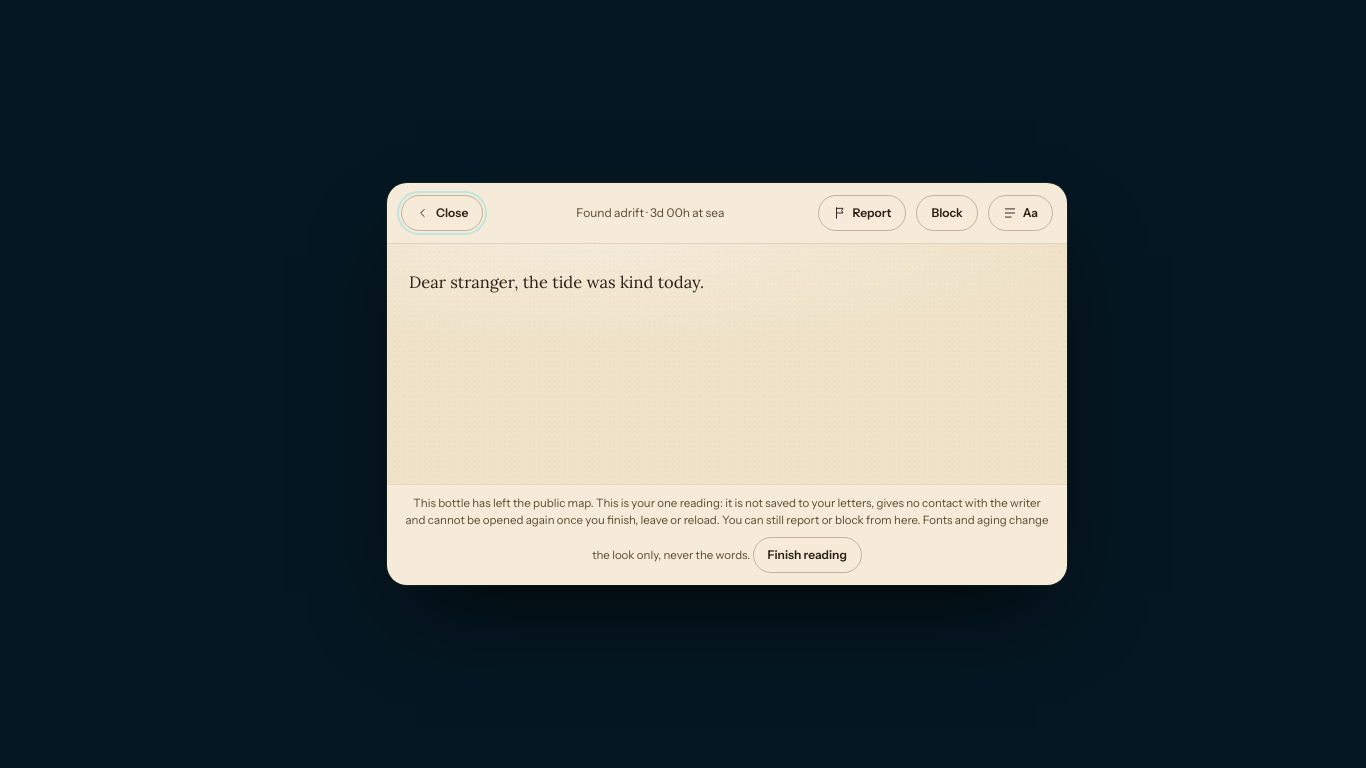
Test case: the report form fits a short screen (FE-R-001) › opens in a panel that marks the dialog, with its actions in a pinned row
Click the button with aria-label "Report this letter" at (862, 213), box [818,196,906,231]
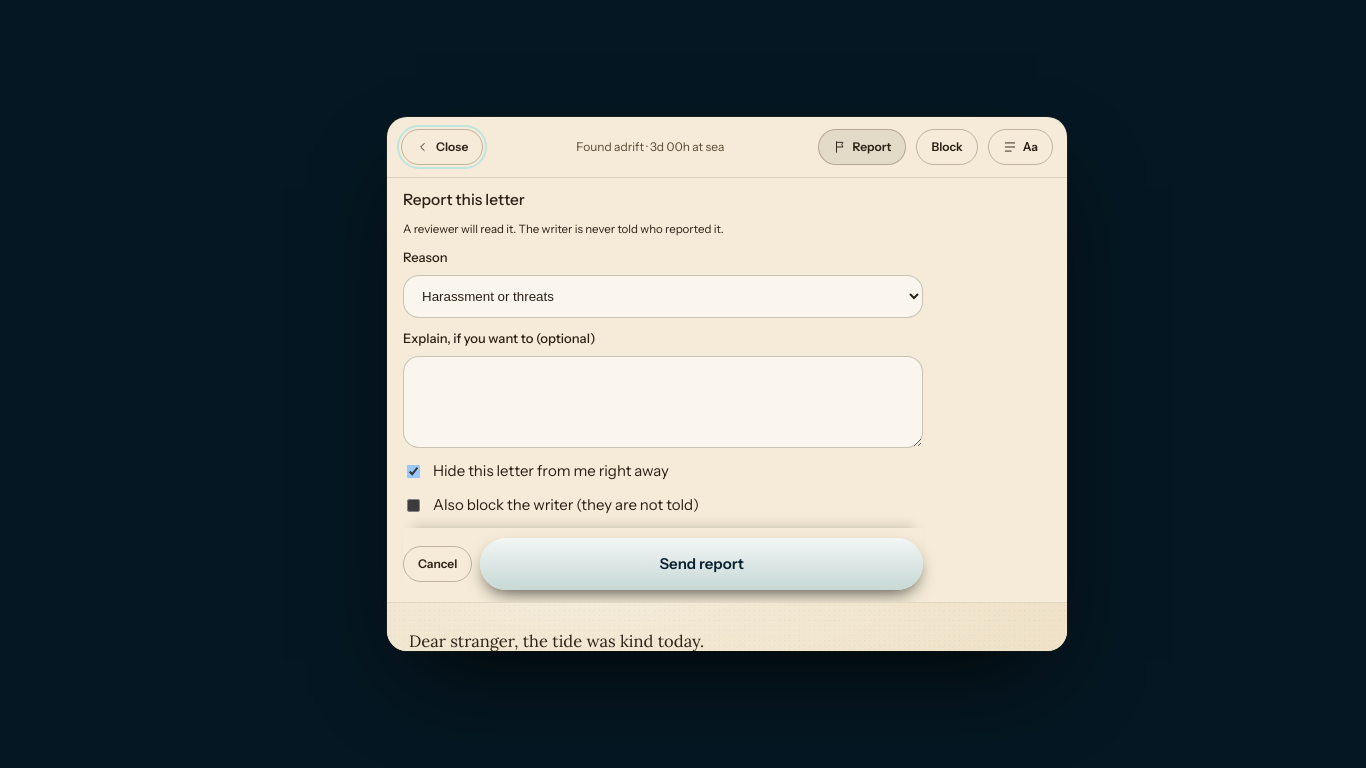
Result: the element "Report this letter" is shown at [387,178,1067,603]
Result: the element with class "report-actions" shows "Send report" at [480,538,923,590]
Result: the element with class "report-actions" shows "Cancel" at [403,546,472,582]
